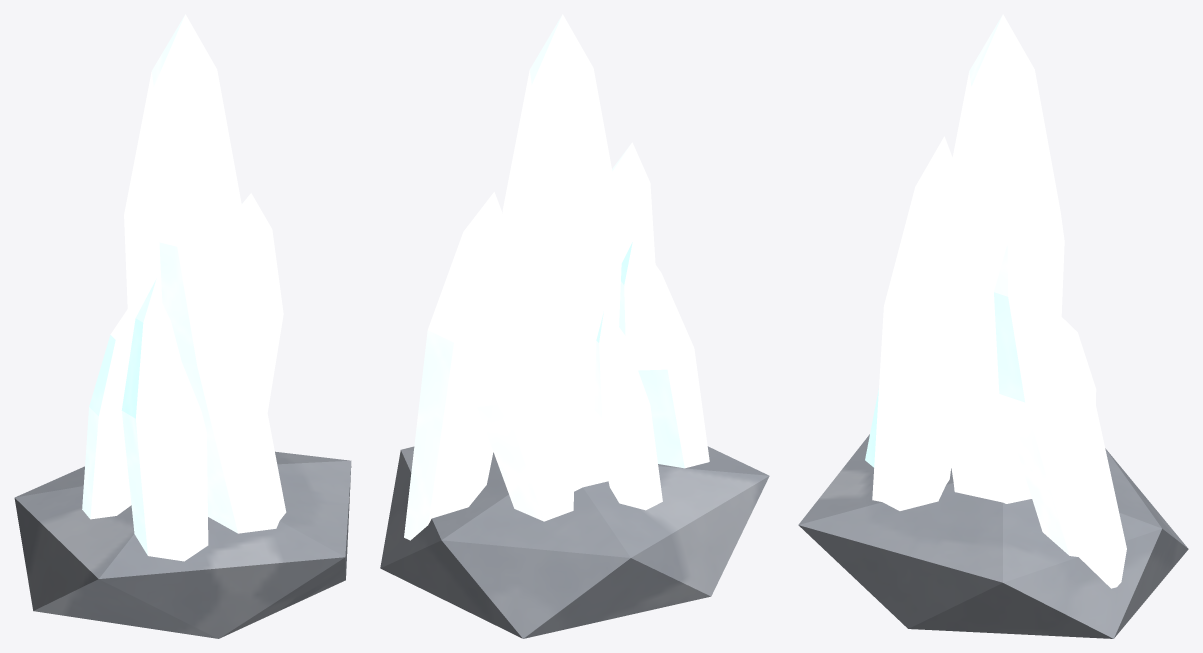
The model's file is ice_crystal.gltf.
3 views of the same model, side by side, from view 1: azimuth 30°, elevation 25°; view 2: azimuth 150°, elevation 25°; view 3: azimuth 270°, elevation 25° (orthographic). The views are drawn at different scales.
Visible parts, largest first — view 1: ice_crystal; view 2: ice_crystal; view 3: ice_crystal.
Boxes of the visible parts, x1,y1,x2,y2 form: ice_crystal: [14, 14, 351, 638]; ice_crystal: [380, 14, 769, 638]; ice_crystal: [798, 14, 1188, 638].
Bounding box in the file's own units: 0.7468 × 1.26 × 0.7927.
Materials: 1 (1 with a texture image).
